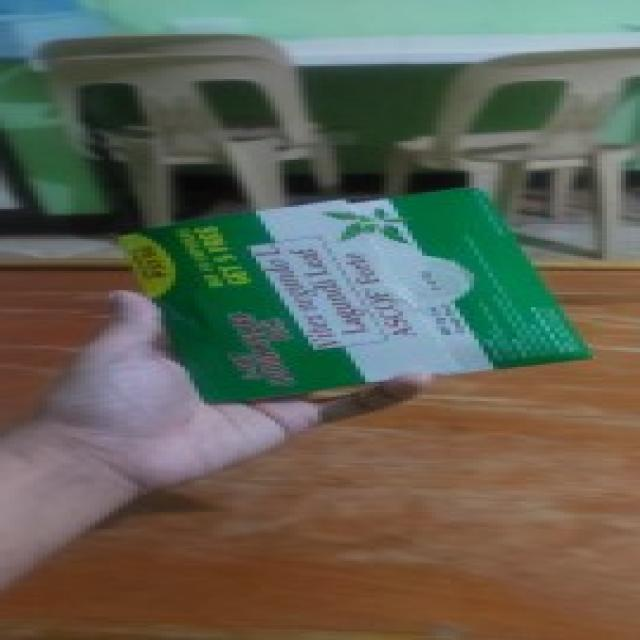Cacat: (114, 190, 597, 404)
